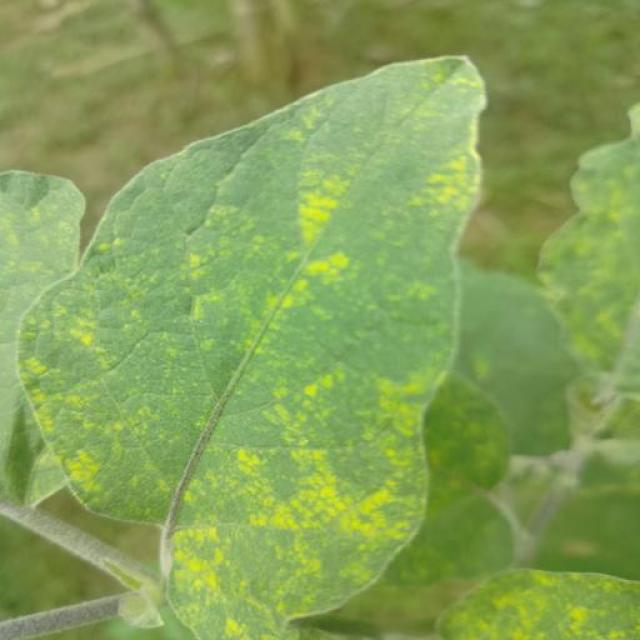leaf_spot: (233, 446, 401, 553), (18, 346, 87, 429), (269, 552, 364, 612), (170, 523, 242, 602), (444, 134, 482, 219), (414, 68, 488, 110), (272, 382, 368, 414), (379, 372, 418, 442), (296, 185, 345, 239), (413, 161, 461, 215), (67, 312, 110, 364), (72, 449, 114, 500), (567, 604, 626, 638), (491, 586, 550, 617), (266, 286, 314, 320), (459, 604, 502, 640), (279, 104, 336, 131), (298, 256, 360, 274), (110, 231, 136, 268), (220, 614, 256, 639), (404, 284, 441, 306), (530, 574, 578, 589), (190, 254, 212, 282)
